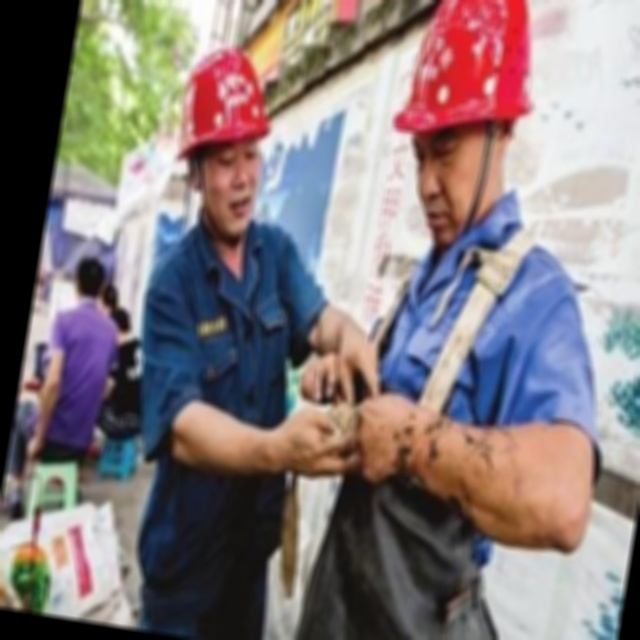Con_Casco: (376, 0, 545, 239), (167, 44, 277, 233)
